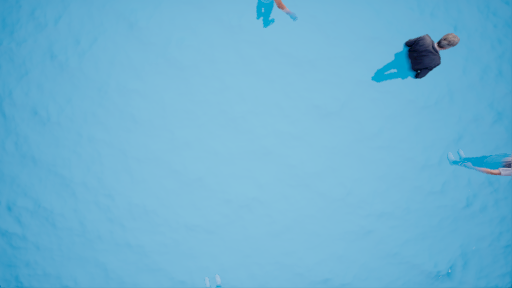person: (366, 21, 470, 91), (446, 143, 512, 184), (255, 1, 302, 36)
